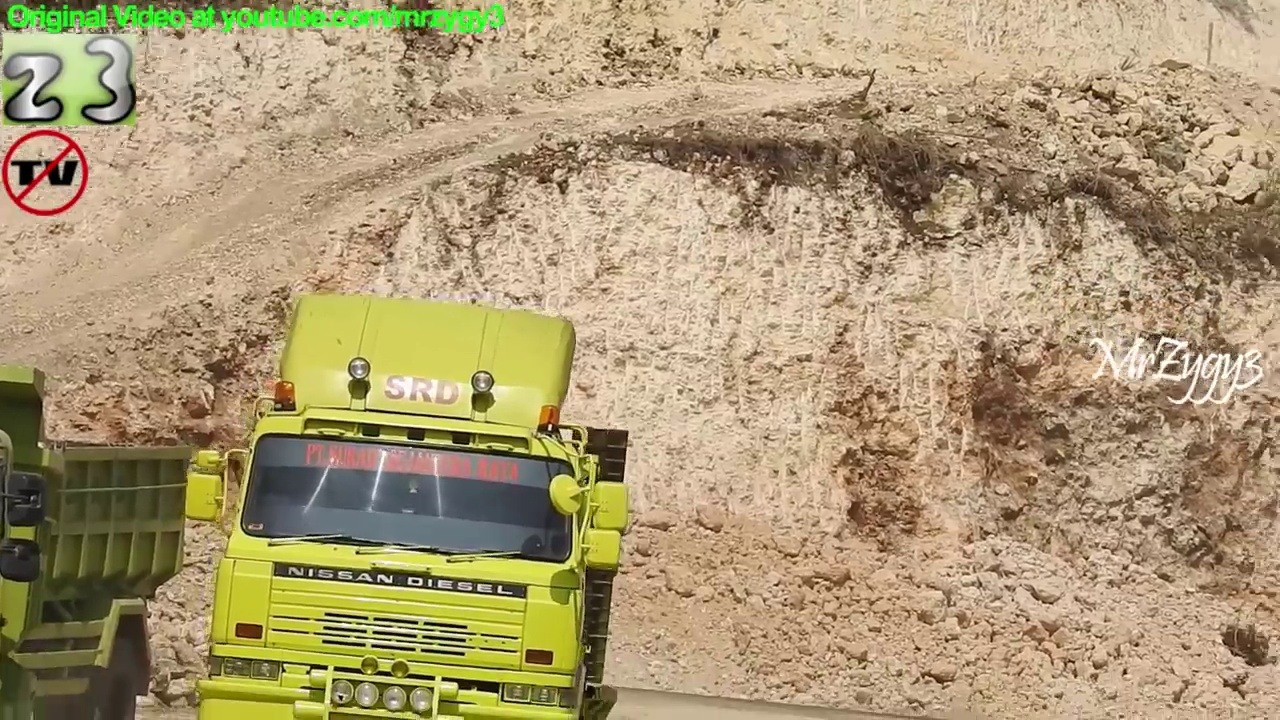truck: (181, 290, 639, 720), (1, 361, 195, 720)
